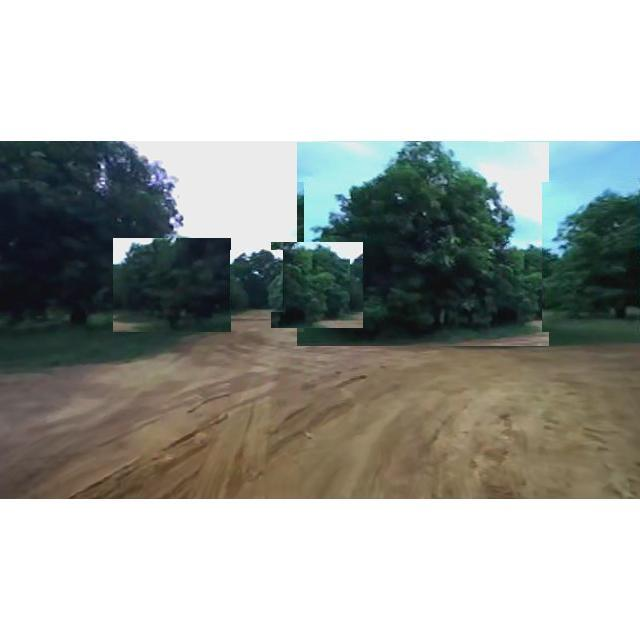direk: (297, 142, 549, 346), (1, 144, 190, 330), (542, 182, 638, 332), (113, 238, 231, 332), (271, 242, 363, 328), (230, 250, 284, 312)
